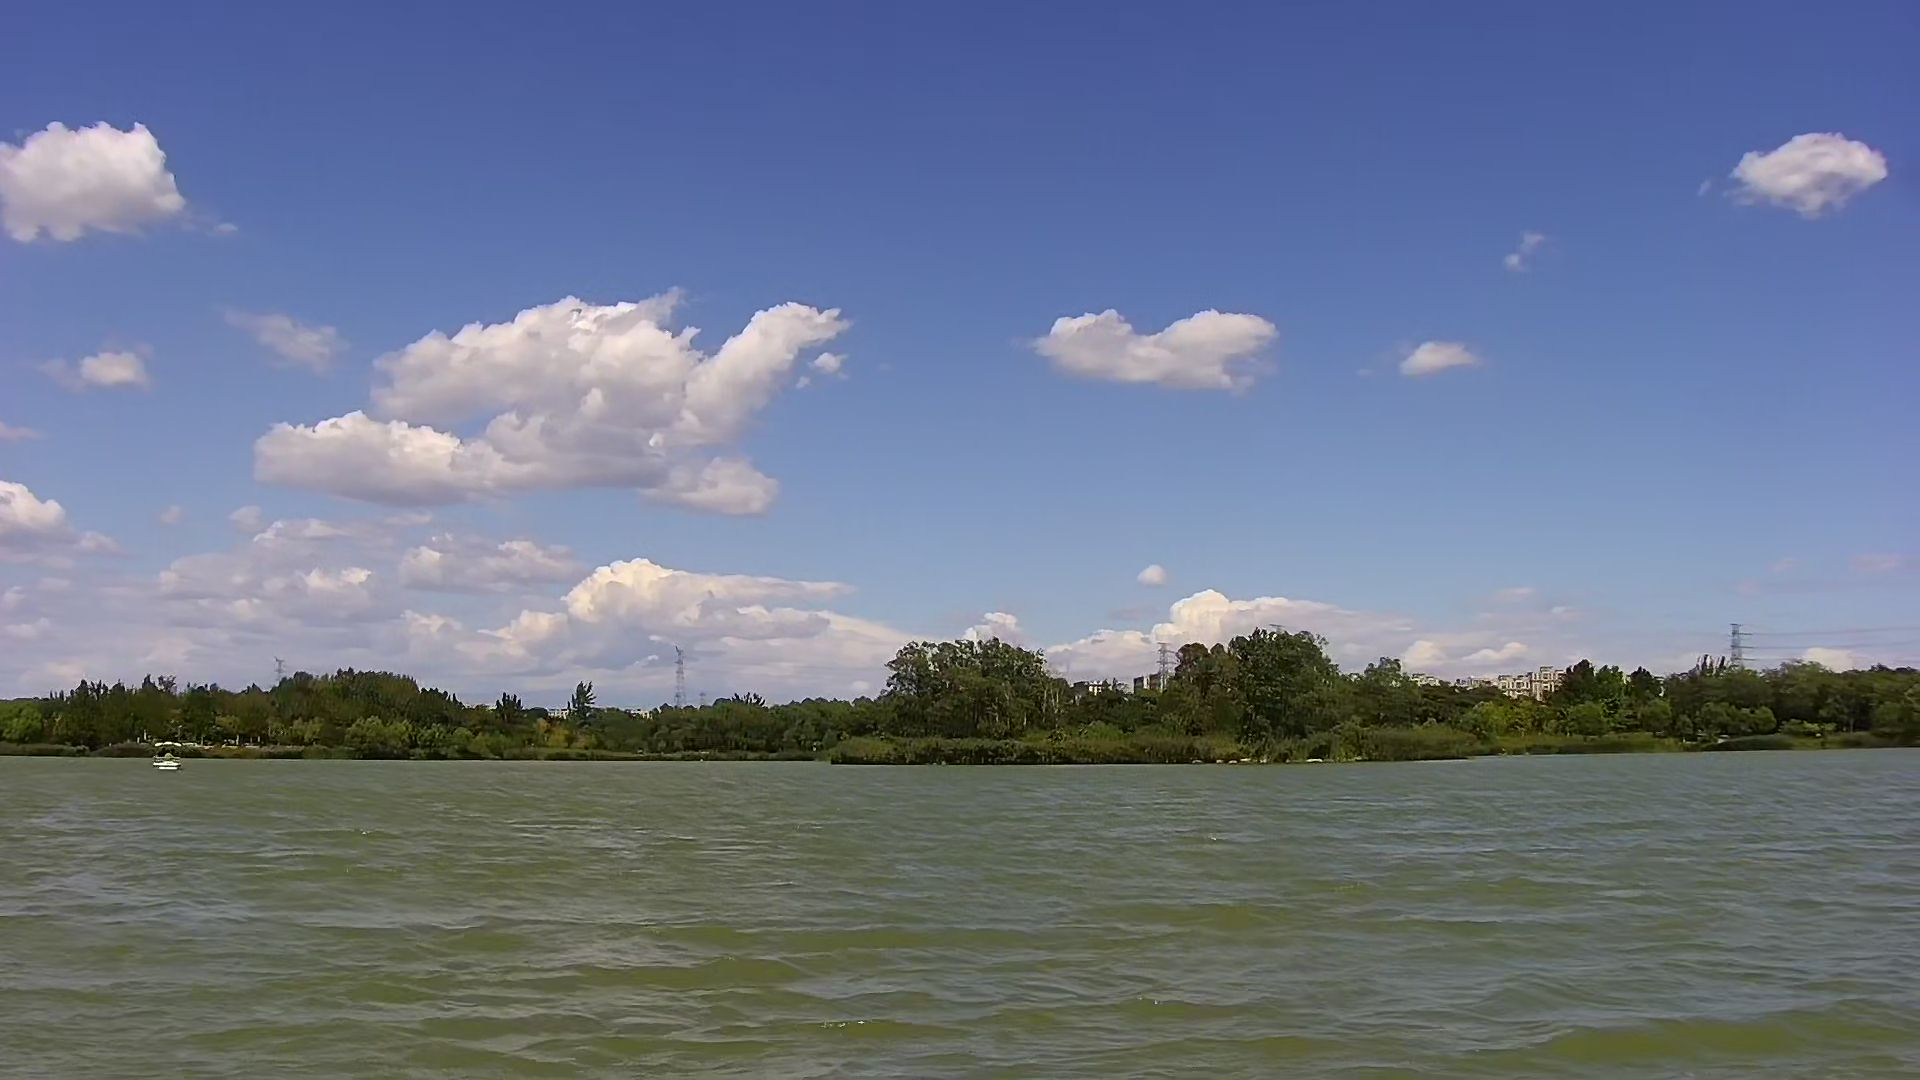boat: (138, 738, 189, 781)
